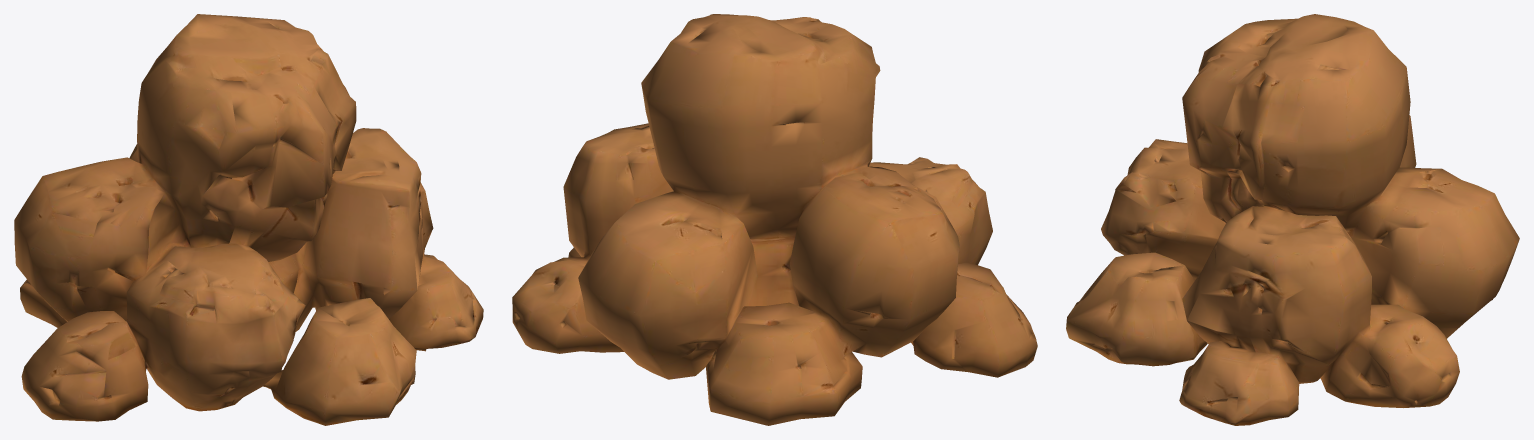
The model's file is rochas_deserto.glb.
3 renders of one model, left to right at view 1: azimuth 30°, elevation 25°; view 2: azimuth 150°, elevation 25°; view 3: azimuth 270°, elevation 25°, orthographic. The views are drawn at different scales.
Visible parts, largest first — view 1: tripo_node_57506510-b30c-4b89-8891-f42dc141bc0d; view 2: tripo_node_57506510-b30c-4b89-8891-f42dc141bc0d; view 3: tripo_node_57506510-b30c-4b89-8891-f42dc141bc0d.
Part boxes in pixels (x1,y1,x2,y2): tripo_node_57506510-b30c-4b89-8891-f42dc141bc0d: (14,14,483,425); tripo_node_57506510-b30c-4b89-8891-f42dc141bc0d: (512,14,1037,425); tripo_node_57506510-b30c-4b89-8891-f42dc141bc0d: (1066,14,1519,425).
Size of the model in its own units: 0.9776 by 0.6485 by 0.8972.
1 material, 1 textured.
